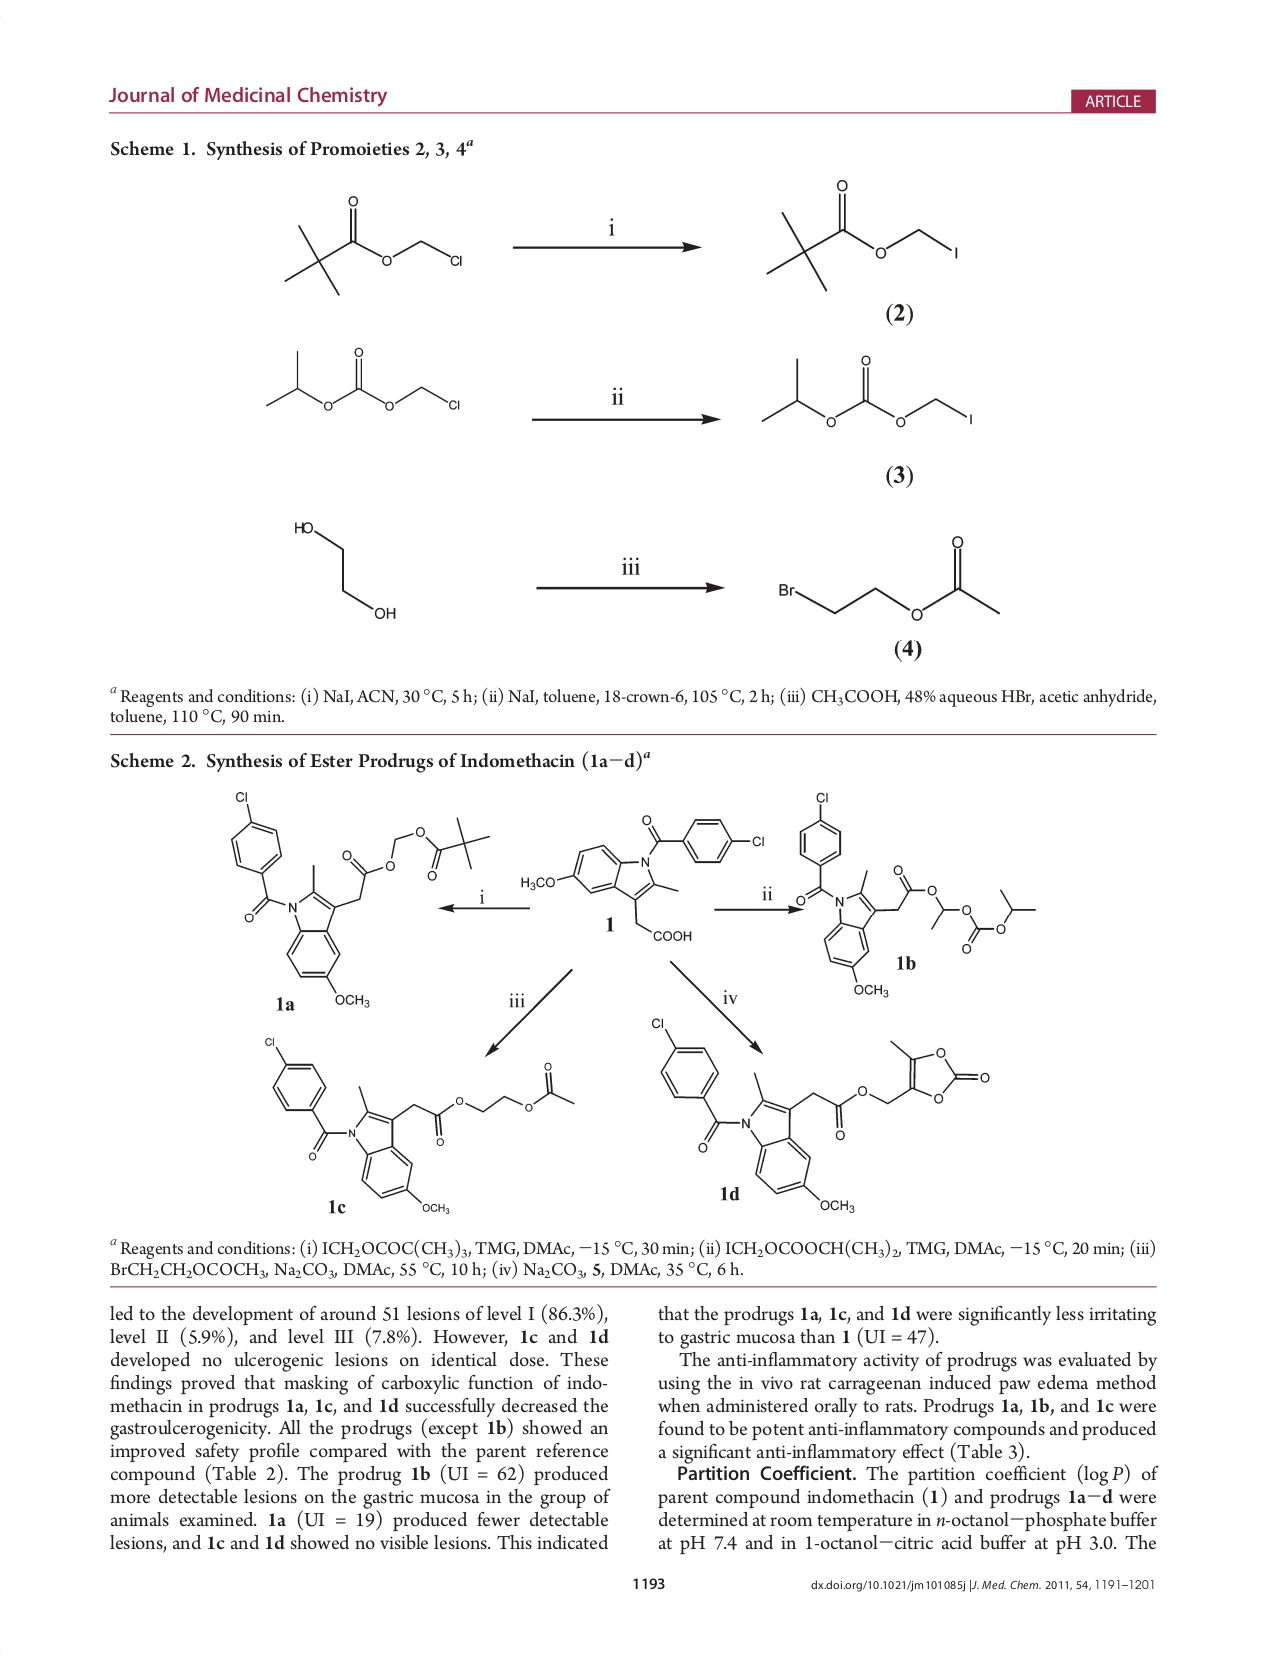exist_molecular: (646, 1013, 992, 1216), (223, 783, 492, 1007), (259, 1031, 577, 1214), (793, 789, 1037, 997), (519, 811, 766, 942), (763, 176, 964, 290), (769, 531, 1008, 622), (755, 348, 983, 440), (278, 192, 465, 299), (263, 336, 460, 420), (286, 501, 406, 632)
